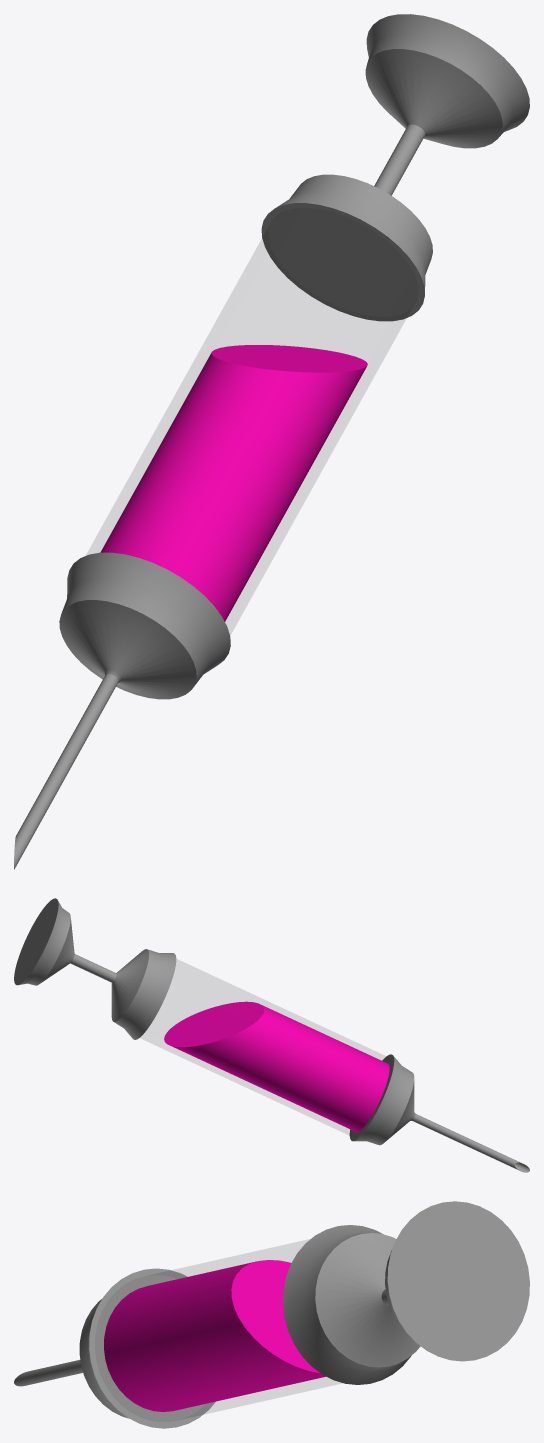
The model's file is Syringe.fbx.
The picture shows the model from 3 angles, top to bottom: view 1: azimuth 30°, elevation 25°; view 2: azimuth 150°, elevation 25°; view 3: azimuth 270°, elevation 25°; orthographic projection. The views are drawn at different scales.
Visible parts, largest first — view 1: Body_2, Cone_2, Bottom_Side, Top_Side, Needle, Cylinder_2; view 2: Body_2, Cone_2, Top_Side, Bottom_Side, Needle, Cylinder_2; view 3: Body_2, Top_Side, Cone_2, Bottom_Side, Needle.
Boxes of the visible parts, left/top/right/bottom form: Body_2: left=100, top=345, right=367, bottom=621; Cone_2: left=261, top=174, right=432, bottom=321; Bottom_Side: left=59, top=552, right=230, bottom=699; Top_Side: left=365, top=14, right=529, bottom=148; Needle: left=14, top=674, right=118, bottom=869; Cylinder_2: left=374, top=124, right=425, bottom=195; Body_2: left=164, top=1001, right=389, bottom=1132; Cone_2: left=111, top=949, right=176, bottom=1039; Top_Side: left=14, top=898, right=74, bottom=985; Bottom_Side: left=349, top=1054, right=415, bottom=1145; Needle: left=412, top=1114, right=529, bottom=1172; Cylinder_2: left=70, top=954, right=116, bottom=982; Body_2: left=104, top=1260, right=325, bottom=1411; Top_Side: left=385, top=1201, right=529, bottom=1361; Cone_2: left=283, top=1225, right=420, bottom=1384; Bottom_Side: left=79, top=1268, right=215, bottom=1428; Needle: left=14, top=1360, right=82, bottom=1386.
Size of the model in its own units: 57.27 by 38.89 by 39.01.
